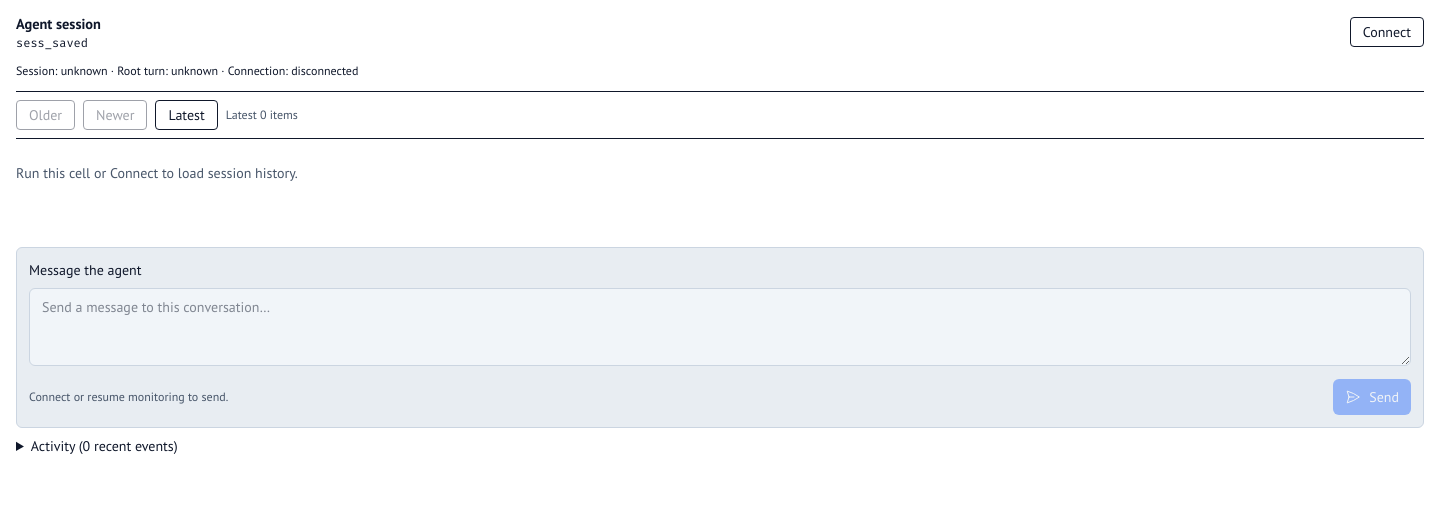
agent monitor rendering › does not connect saved output automatically and gives actionable configuration errors
Click the button "Connect" at point(1387, 32), box left=1350, top=17, right=1424, bottom=47
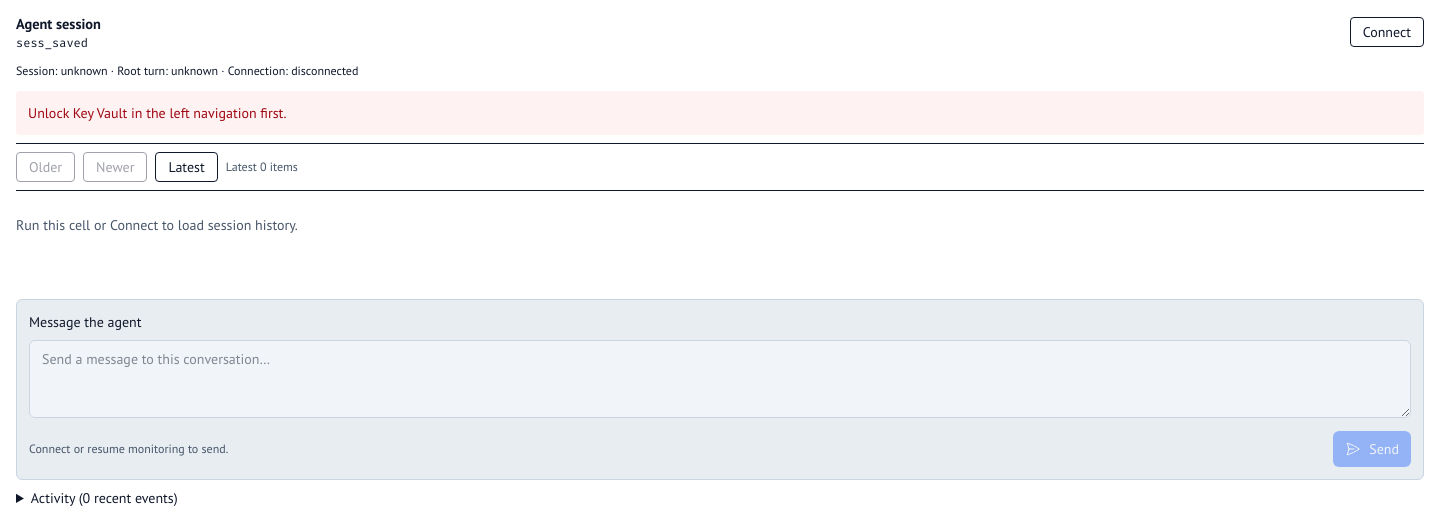
Expected: the message "Unlock Key Vault in the left navigation first." is shown, left=16, top=91, right=1424, bottom=135
